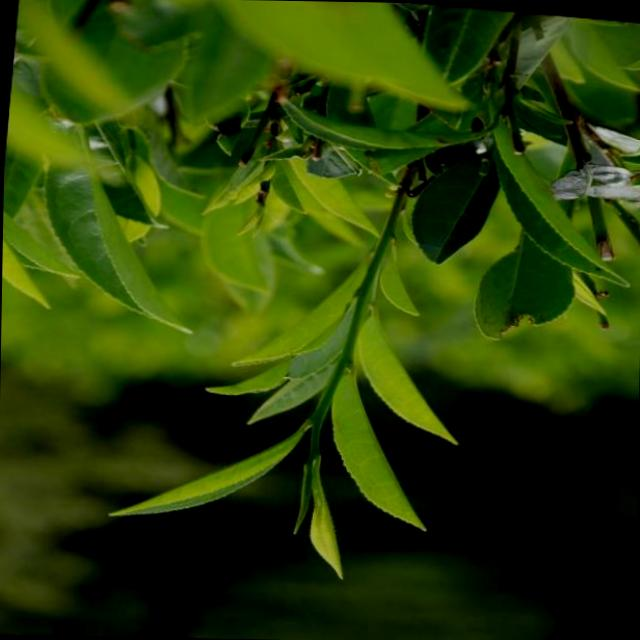Stem: (310, 441, 318, 453)
